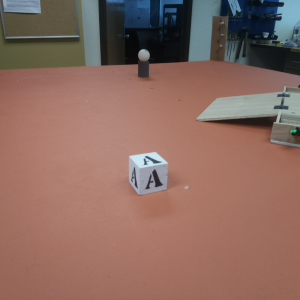blockA: (122, 149, 173, 195)
corner: (206, 14, 230, 65)
obstacle: (137, 49, 151, 78)
side: (266, 121, 300, 146)
slope: (198, 89, 293, 117)
